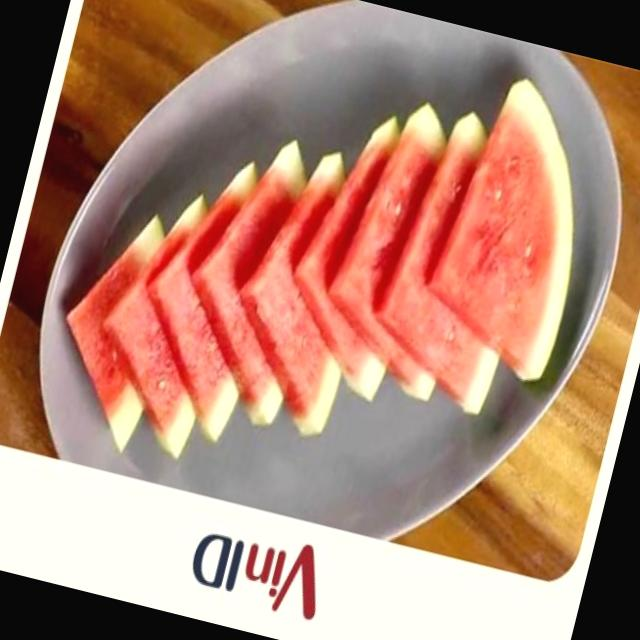dua hau: (432, 75, 574, 385), (328, 106, 445, 404), (381, 115, 498, 412), (196, 134, 306, 425), (232, 155, 344, 435), (149, 158, 258, 441), (294, 120, 399, 397), (102, 185, 206, 457), (67, 218, 164, 450)
